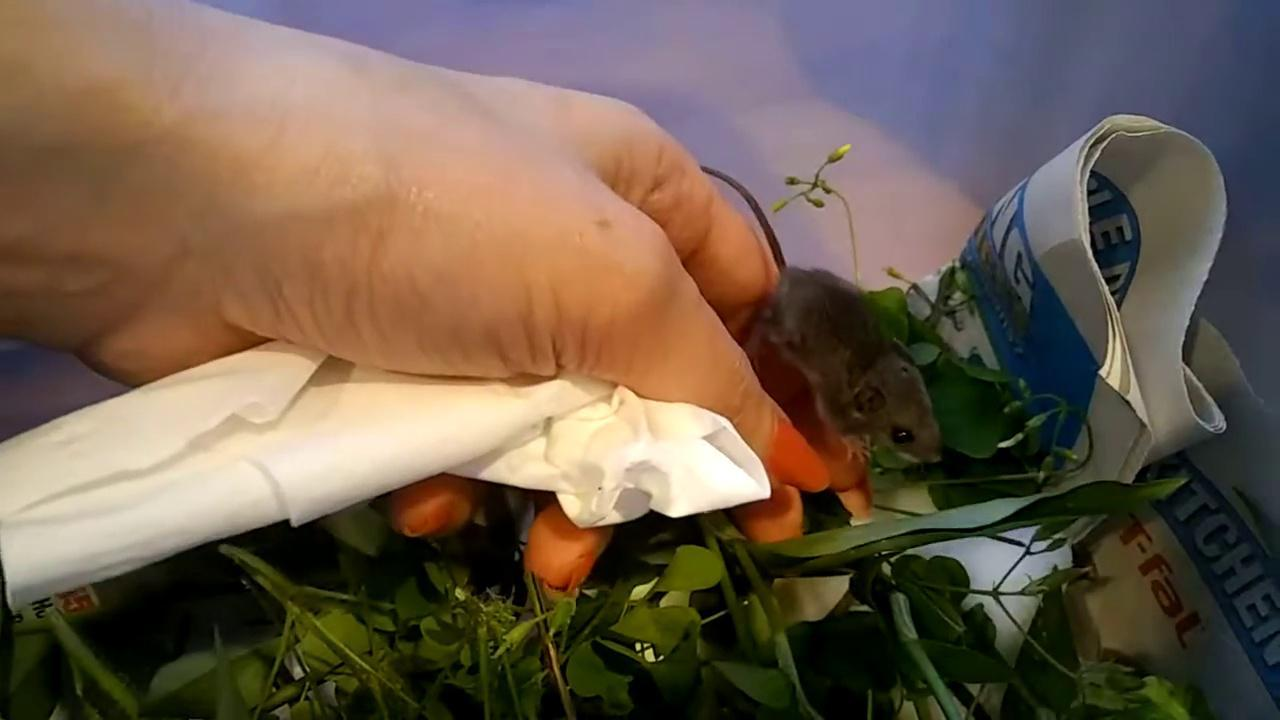rat: (699, 158, 941, 464)
